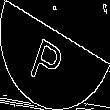P_NE: (34, 24, 76, 86)
